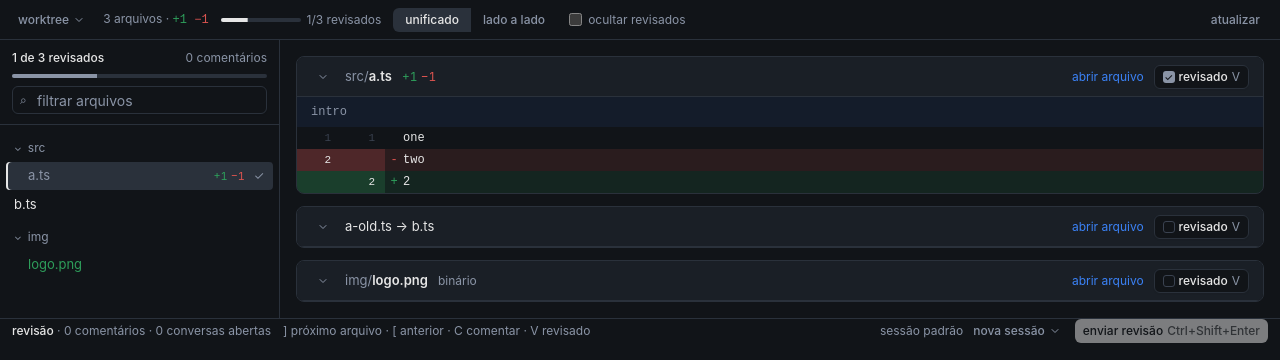
Test: ocultar revisados hides reviewed cards from the body while checked; the list keeps every file (#591)
Expected: the button "a.ts +1 −1 ✓" is shown, [6,162,273,190]
Expected: the element "src/a.ts" is shown, [296,56,1264,194]
What coordinates should you click on to do the following:
click the checkbox labelled "ocultar revisados"
I would click on:
 (576, 20)
Its box is [569,13,582,26].
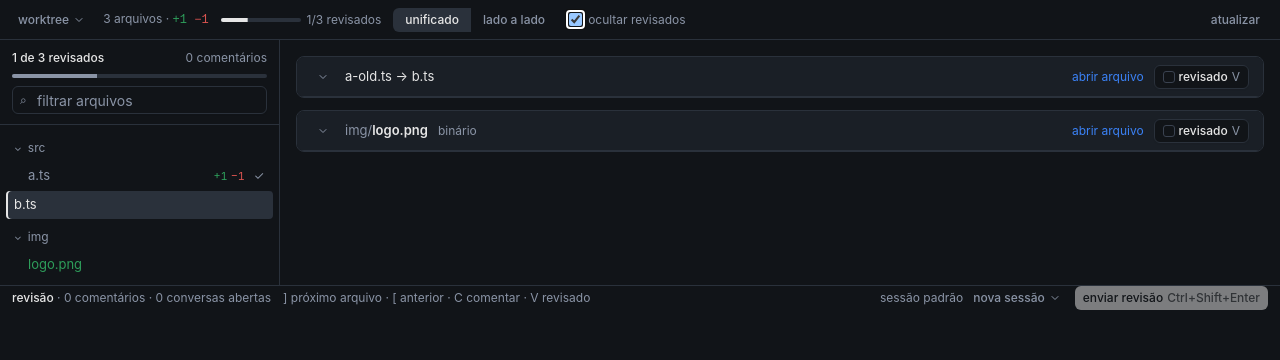
Expected: the button "a.ts +1 −1 ✓" is shown, [6,162,273,190]
Expected: the element "src/a.ts" is gone
What coordinates should you click on to do the following:
click the checkbox labelled "ocultar revisados"
I would click on:
 (576, 20)
Its box is [569,13,582,26].
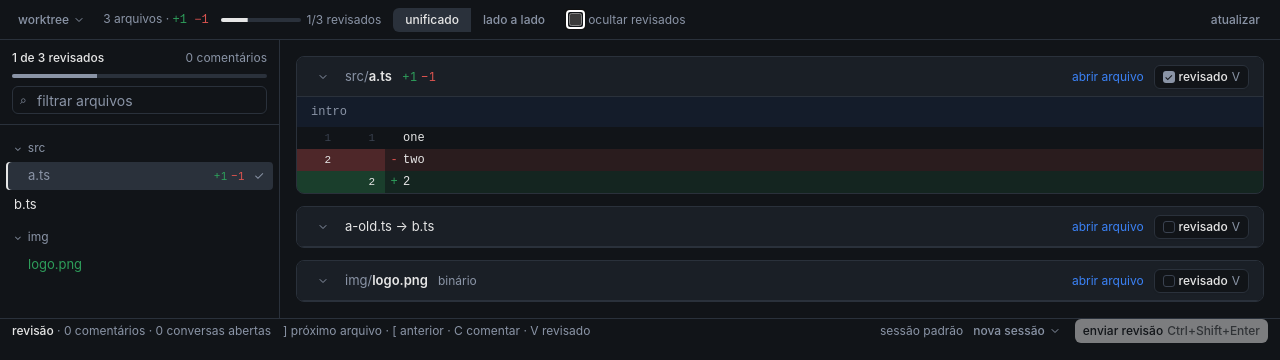
Expected: the element "src/a.ts" is shown, [296,56,1264,194]
